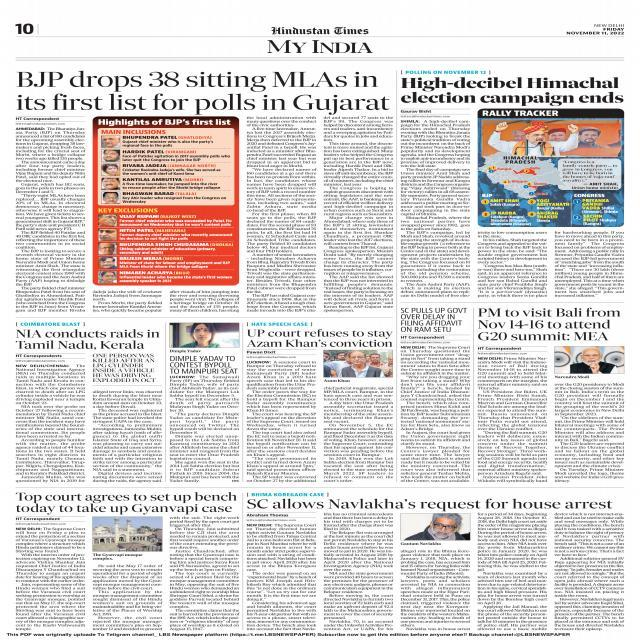Article: (10, 67, 396, 315), (243, 490, 630, 633), (398, 69, 626, 300), (10, 490, 242, 632), (474, 304, 628, 484), (12, 320, 166, 485), (243, 321, 395, 484), (397, 304, 473, 483), (166, 320, 244, 485)
Body: (246, 116, 319, 314), (322, 116, 394, 313), (14, 125, 86, 314), (400, 118, 473, 298), (399, 344, 471, 482), (476, 356, 548, 482), (245, 360, 318, 482), (14, 362, 86, 484), (322, 512, 395, 632), (476, 512, 548, 632), (554, 512, 626, 631), (168, 516, 240, 631), (246, 522, 318, 632), (170, 375, 242, 483), (12, 526, 86, 631), (552, 382, 626, 484), (322, 386, 394, 484), (91, 390, 164, 482), (398, 548, 472, 632), (552, 230, 626, 298), (476, 230, 550, 298), (92, 563, 164, 631), (91, 289, 163, 313), (170, 290, 240, 314)
Date: (564, 26, 628, 36)
Heading: (14, 69, 390, 115), (401, 76, 624, 107), (12, 490, 238, 514), (475, 306, 622, 342), (244, 498, 614, 511), (14, 328, 160, 350), (246, 328, 394, 348), (400, 305, 470, 333)
Highlights: (117, 213, 235, 285), (123, 136, 231, 204), (92, 352, 156, 384), (560, 160, 620, 190), (168, 355, 238, 375)
Image: (482, 120, 622, 158), (92, 516, 162, 552), (556, 346, 626, 373), (324, 350, 393, 377), (400, 514, 470, 540), (169, 322, 239, 347), (98, 270, 117, 284), (101, 135, 120, 148), (98, 214, 117, 227), (102, 163, 120, 176), (99, 242, 117, 255), (102, 150, 120, 162), (102, 178, 120, 190), (102, 192, 120, 204), (98, 228, 116, 240), (98, 256, 116, 268)
Name: (265, 37, 373, 54), (268, 25, 370, 35)
